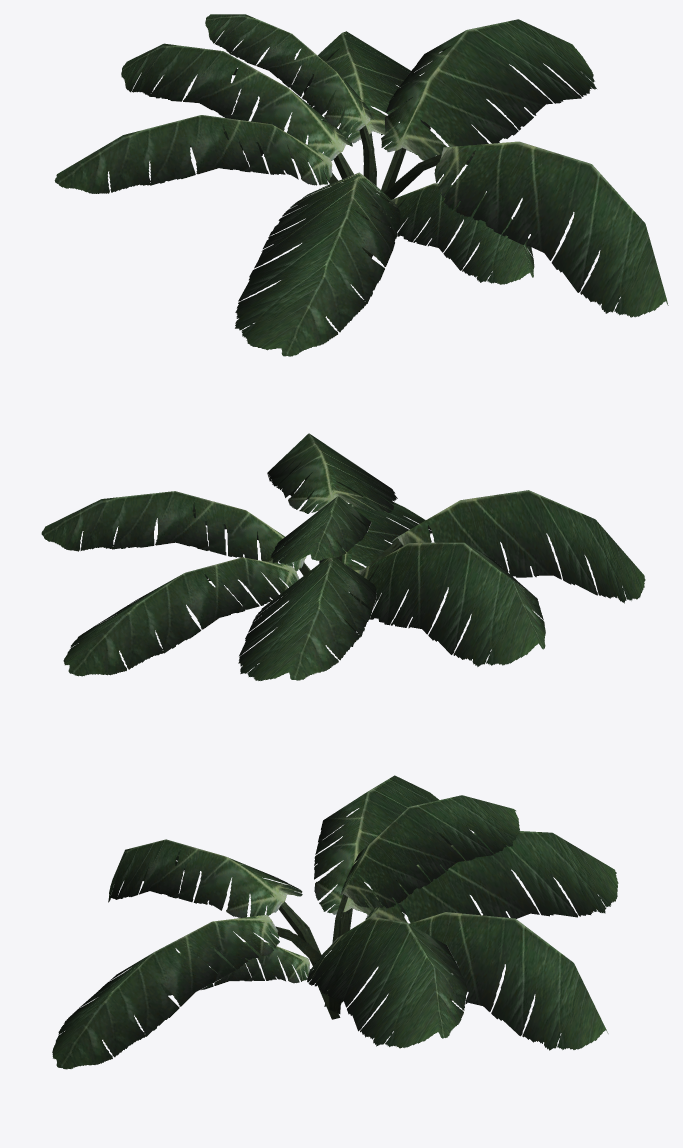
The model's file is blad.obj.
3 renders of one model, top to bottom at view 1: azimuth 30°, elevation 25°; view 2: azimuth 150°, elevation 25°; view 3: azimuth 270°, elevation 25°, orthographic. The views are drawn at different scales.
Visible parts, largest first — view 1: blad1; view 2: blad1; view 3: blad1.
Part boxes in pixels (x1,y1,x2,y2): blad1: (54,14,668,356); blad1: (41,433,645,680); blad1: (52,775,618,1069).
Bounding box in the file's own units: 160 × 64.48 × 164.
Materials: 1 (1 with a texture image).
